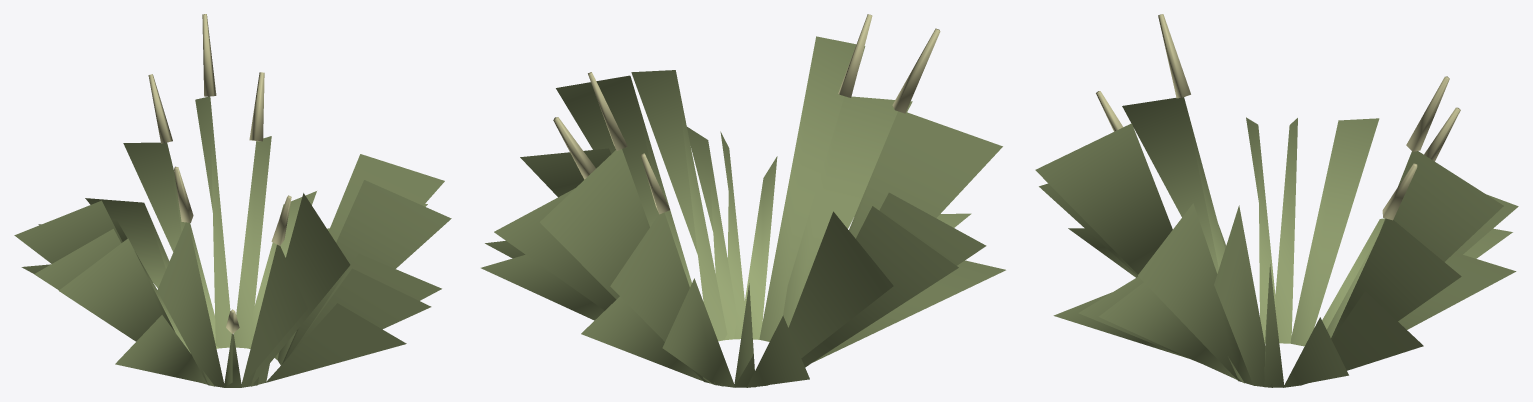
File: fountain-grass.glb
The picture shows the model from 3 angles, left to right: view 1: azimuth 30°, elevation 25°; view 2: azimuth 150°, elevation 25°; view 3: azimuth 270°, elevation 25°; orthographic projection. The views are drawn at different scales.
Parts seen in each view (by area): view 1: fountain-grass_landscape_grass, fountain-grass_landscape_grass_tip; view 2: fountain-grass_landscape_grass, fountain-grass_landscape_grass_tip; view 3: fountain-grass_landscape_grass, fountain-grass_landscape_grass_tip.
Part boxes in pixels (<box>): fountain-grass_landscape_grass: <box>14,96,451,387</box>; fountain-grass_landscape_grass_tip: <box>148,14,291,333</box>; fountain-grass_landscape_grass: <box>481,36,1005,387</box>; fountain-grass_landscape_grass_tip: <box>553,14,940,214</box>; fountain-grass_landscape_grass: <box>1035,97,1518,387</box>; fountain-grass_landscape_grass_tip: <box>1096,14,1460,220</box>.
Size of the model in its own units: 1.2 by 0.8618 by 1.2.
